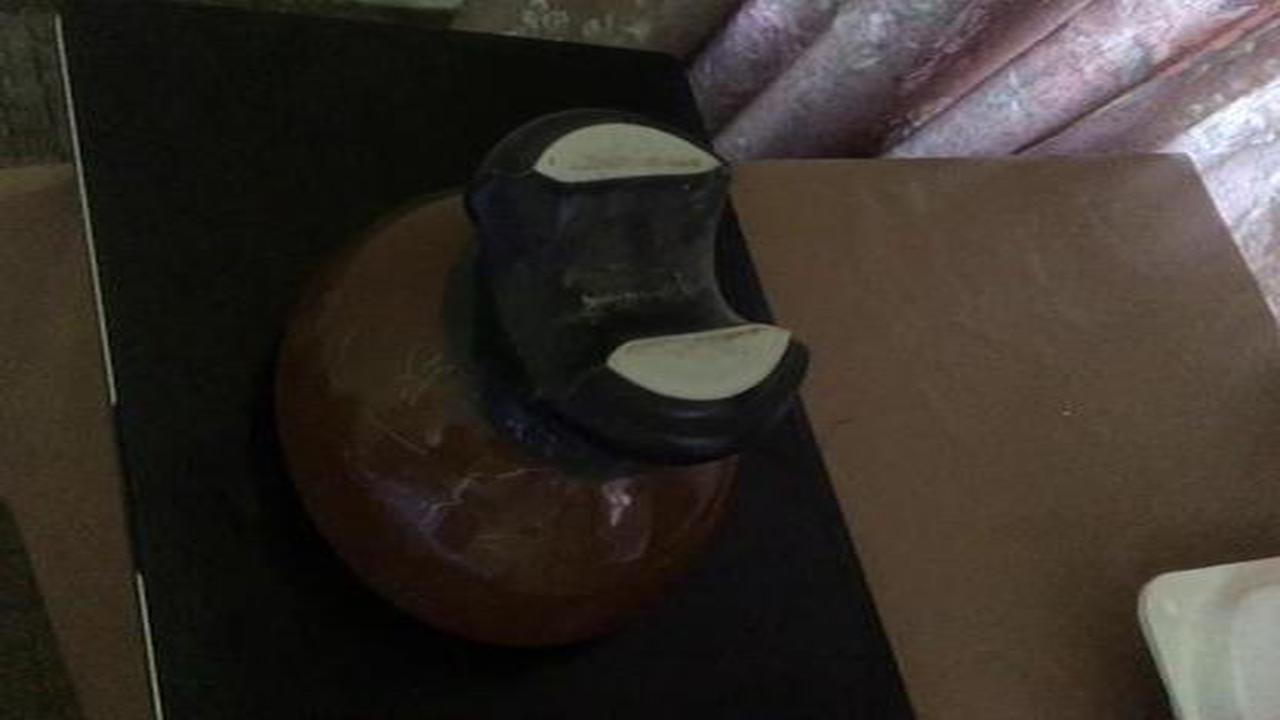insulator_pin: (259, 97, 841, 663)
